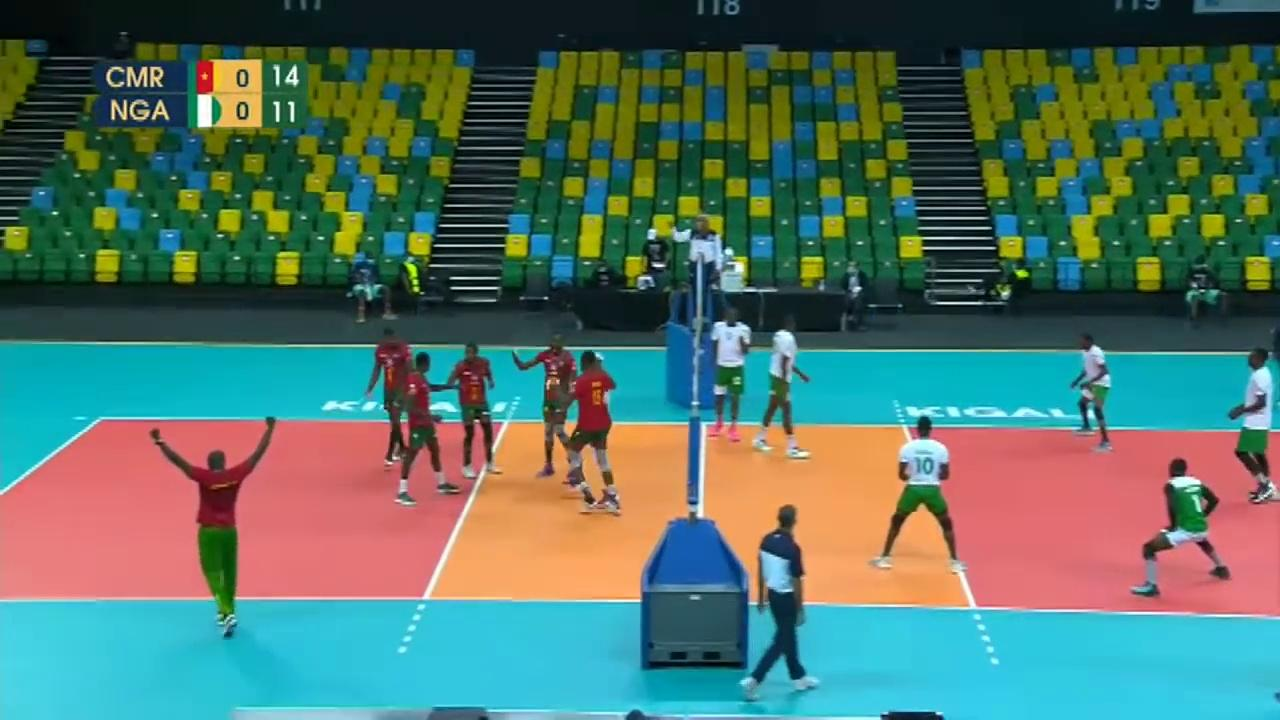player: (870, 415, 966, 570), (1134, 462, 1235, 589), (562, 351, 620, 511), (396, 346, 457, 497), (444, 334, 506, 481), (755, 318, 815, 456), (521, 337, 576, 478), (1228, 349, 1276, 499), (372, 325, 414, 464), (709, 307, 752, 435), (1071, 330, 1114, 452)
refree: (743, 509, 820, 693), (682, 208, 727, 318)
